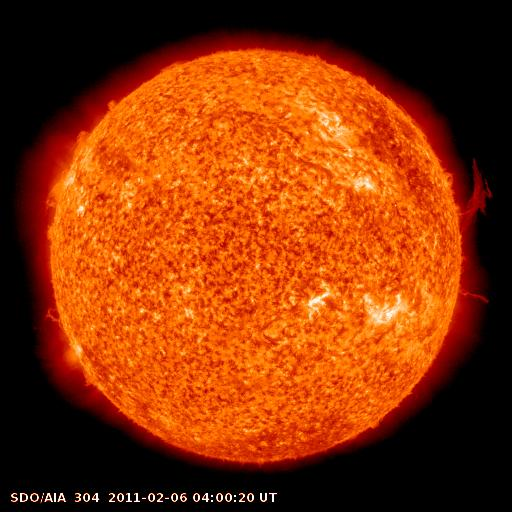prominence: (434, 146, 500, 247), (28, 173, 73, 250), (450, 252, 498, 317), (15, 301, 73, 340)
